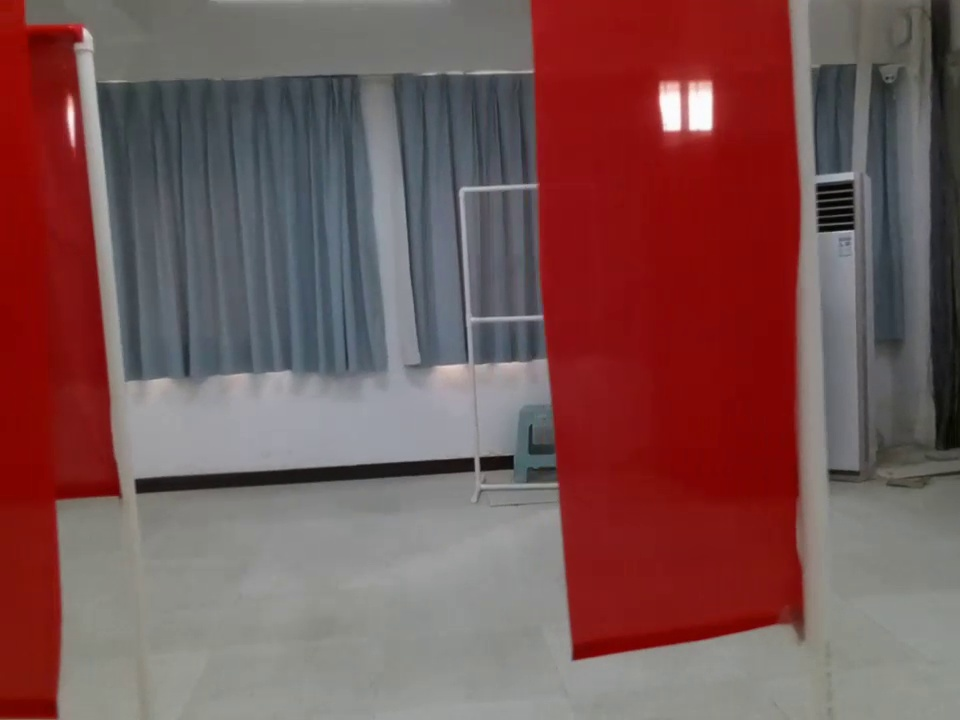qi: (527, 3, 834, 675), (7, 21, 129, 503)
